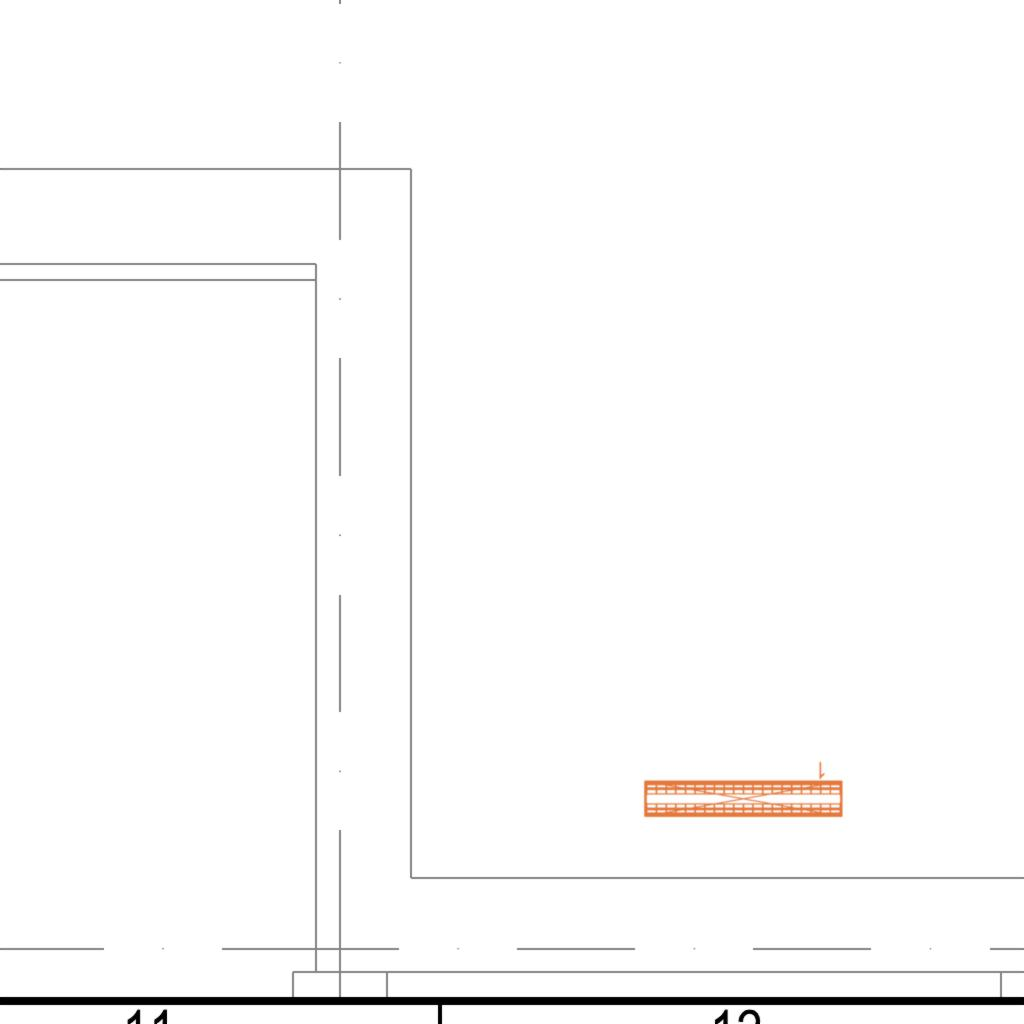Buero_Pendelleuchten_LED: (640, 757, 846, 822)
